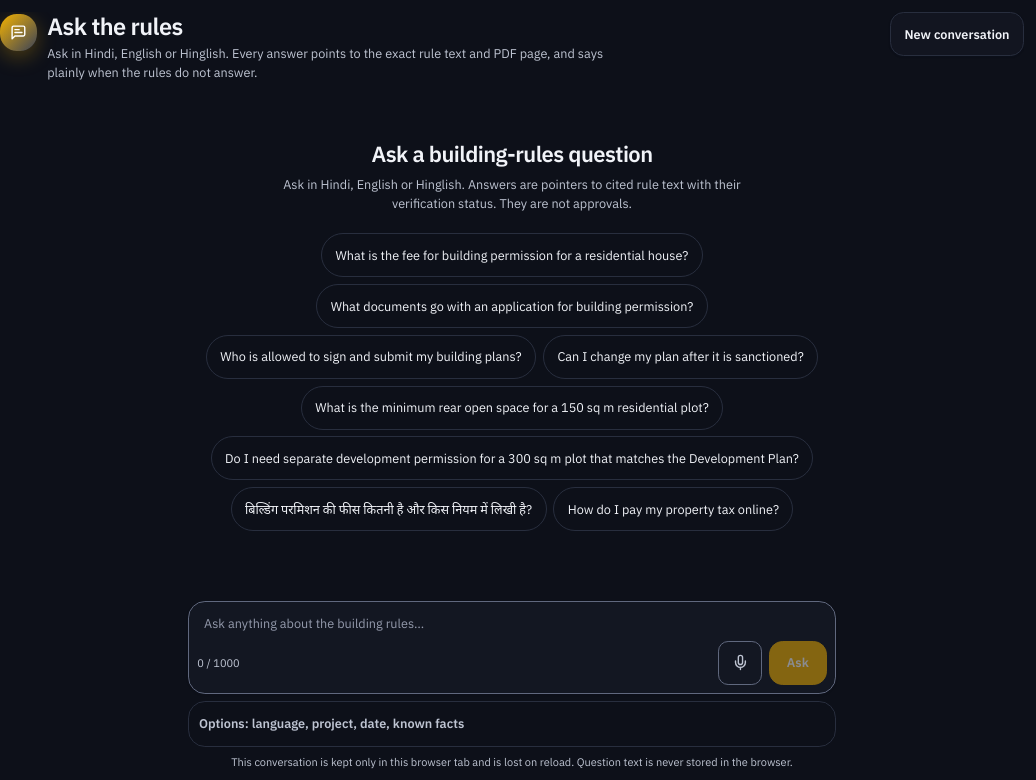
Ask › explain: 503 llm_unavailable -> exactly one retry with explain=false, note shown, toggle hidden
The width and height of the screenshot is (1036, 780).
Type "fees" into the text box named "Your question".
click(512, 624); type("fees")  # box [194,607,830,641]
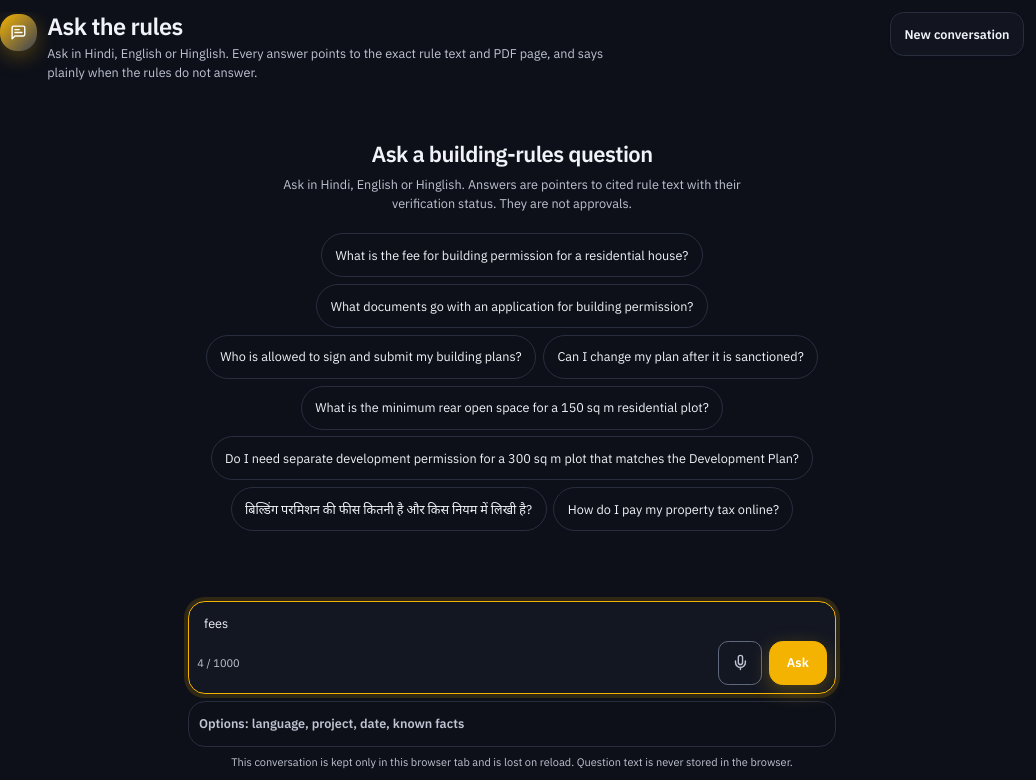
Click the button "Ask".
click(798, 663)  # box [769,641,827,685]
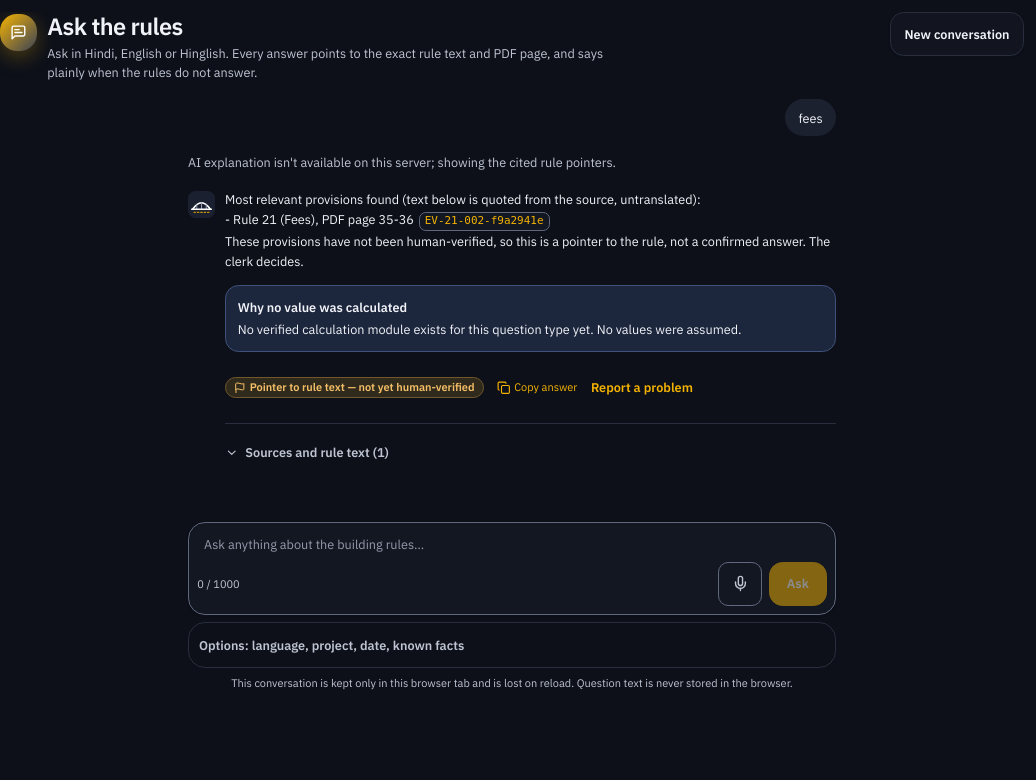
Expected: the text "AI explanation isn't available" is shown, [188,154,616,170]
